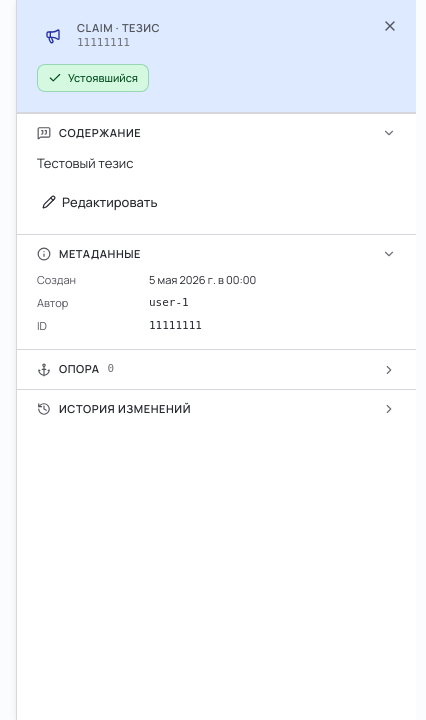
Test case: NodeDetailsPanel › секция Опора › пустой список показывает плейсхолдер
Click the button "Опора 0". click: (79, 369)
box: [17,350,416,389]
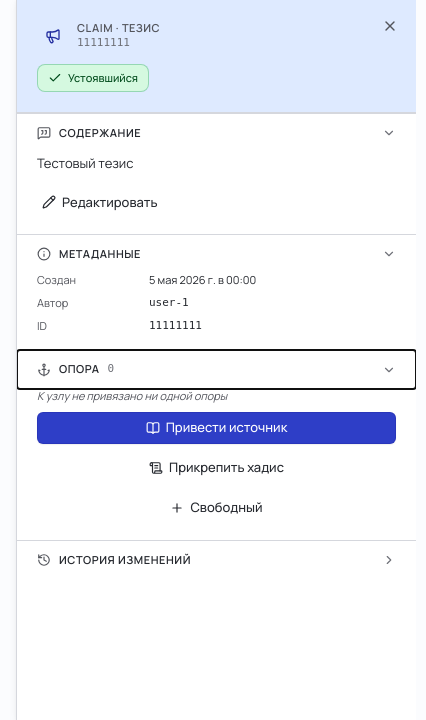
Expected: the text "К узлу не привязано ни одной опоры" is shown, [37,388,227,403]
